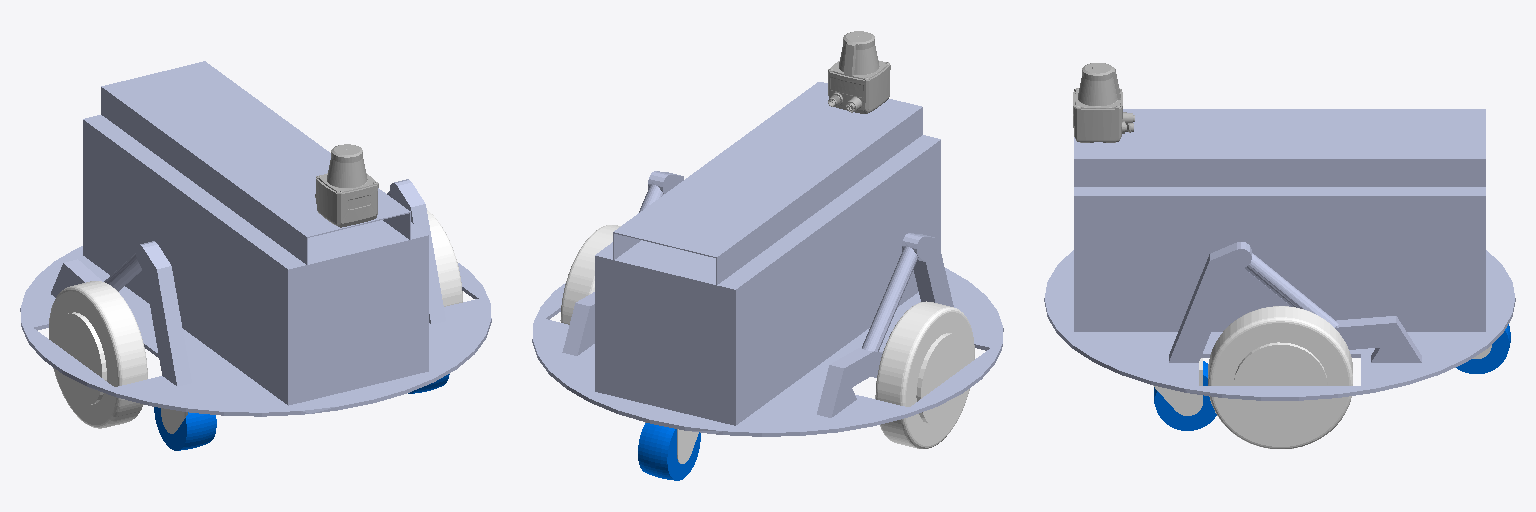
robot.urdf — Robot:
<?xml version="1.0"?>
<!-- This URDF was automatically created by SolidWorks to URDF Exporter! Originally created by [author] ([email redacted]) 
     Commit Version: 1.6.0-4-g7f85cfe  Build Version: 1.6.7995.38578
     For more information, please see http://wiki.ros.org/sw_urdf_exporter -->
<robot name="Robot">
  <link name="base_link">
    <inertial>
      <origin xyz="5.5883E-09 6.8815E-05 0.087147" rpy="0 0 0" />
      <mass value="17.671" />
      <inertia ixx="0.38706" ixy="-1.5454E-09" ixz="-4.6261E-09" iyy="0.11595" iyz="0.00072969" izz="0.39948" />
    </inertial>
    <visual>
      <origin xyz="0 0 0" rpy="0 0 0" />
      <geometry>
        <mesh filename="package://move_cpp/meshes/base_link.STL" />
      </geometry>
      <material name="">
        <color rgba="0.79216 0.81961 0.93333 1" />
      </material>
    </visual>
    <collision>
      <origin xyz="0 0 0" rpy="0 0 0" />
      <geometry>
        <mesh filename="package://move_cpp/meshes/base_link.STL" />
      </geometry>
    </collision>
  </link>
  <link name="left_driving_Link">
    <inertial>
      <origin xyz="-4.6306E-16 -2.4069E-17 0.030989" rpy="0 0 0" />
      <mass value="1.0167" />
      <inertia ixx="0.0018863" ixy="-8.4703E-22" ixz="-2.1234E-17" iyy="0.0018863" iyz="5.4336E-20" izz="0.0034125" />
    </inertial>
    <visual>
      <origin xyz="0 0 0" rpy="0 0 0" />
      <geometry>
        <mesh filename="package://move_cpp/meshes/left_driving_Link.STL" />
      </geometry>
      <material name="">
        <color rgba="1 1 1 1" />
      </material>
    </visual>
    <collision>
      <origin xyz="0 0 0" rpy="0 0 0" />
      <geometry>
        <mesh filename="package://move_cpp/meshes/left_driving_Link.STL" />
      </geometry>
    </collision>
  </link>
  <joint name="left_driving_joint" type="continuous">
    <origin xyz="0.180999999999999 0.000786833678708226 0.000722293893000475" rpy="1.5707963267949 -0.0050365594113706 1.57079632679491" />
    <parent link="base_link" />
    <child link="left_driving_Link" />
    <axis xyz="0 0 -1" />
  </joint>
  <link name="right_driving_Link">
    <inertial>
      <origin xyz="-3.0184E-16 1.2322E-15 0.030989" rpy="0 0 0" />
      <mass value="1.0167" />
      <inertia ixx="0.0018863" ixy="-5.421E-20" ixz="-2.1535E-17" iyy="0.0018863" iyz="-1.9176E-19" izz="0.0034125" />
    </inertial>
    <visual>
      <origin xyz="0 0 0" rpy="0 0 0" />
      <geometry>
        <mesh filename="package://move_cpp/meshes/right_driving_Link.STL" />
      </geometry>
      <material name="">
        <color rgba="1 1 1 1" />
      </material>
    </visual>
    <collision>
      <origin xyz="0 0 0" rpy="0 0 0" />
      <geometry>
        <mesh filename="package://move_cpp/meshes/right_driving_Link.STL" />
      </geometry>
    </collision>
  </link>
  <joint name="right_driving_joint" type="continuous">
    <origin xyz="-0.181 0.000786833678706968 0.000722293893000444" rpy="-1.5707963267948 -1.42407792492469 1.5707963267948" />
    <parent link="base_link" />
    <child link="right_driving_Link" />
    <axis xyz="0 0 -1" />
  </joint>
  <link name="left_front_Link">
    <inertial>
      <origin xyz="1.43782208361642E-12 0.0168544398985724 0.0240047071523703" rpy="0 0 0" />
      <mass value="0.00854174955709271" />
      <inertia ixx="5.38481577543375E-06" ixy="-4.82202558289165E-16" ixz="-3.13676314830369E-16" iyy="5.74785615120538E-06" iyz="-8.16029471723176E-07" izz="5.61072560754907E-06" />
    </inertial>
    <visual>
      <origin xyz="0 0 0" rpy="0 0 0" />
      <geometry>
        <mesh filename="package://move_cpp/meshes/left_front_Link.STL" />
      </geometry>
      <material name="">
        <color rgba="1 1 1 1" />
      </material>
    </visual>
    <collision>
      <origin xyz="0 0 0" rpy="0 0 0" />
      <geometry>
        <mesh filename="package://move_cpp/meshes/left_front_Link.STL" />
      </geometry>
    </collision>
  </link>
  <joint name="left_front_joint" type="continuous">
    <origin xyz="0.157292912235723 -0.1427665926638 -0.00399999999999999" rpy="-1.5707963267949 0 0.00497127419552703" />
    <parent link="base_link" />
    <child link="left_front_Link" />
    <axis xyz="0 1 0" />
  </joint>
  <link name="passive_wheel_0_Link">
    <inertial>
      <origin xyz="0 0 5.0503E-11" rpy="0 0 0" />
      <mass value="0.19552" />
      <inertia ixx="0.00010159" ixy="1.0164E-20" ixz="4.619E-20" iyy="0.00010159" iyz="-9.5556E-21" izz="0.00015221" />
    </inertial>
    <visual>
      <origin xyz="0 0 0" rpy="0 0 0" />
      <geometry>
        <mesh filename="package://move_cpp/meshes/passive_wheel_0_Link.STL" />
      </geometry>
      <material name="">
        <color rgba="0 0.50196 1 1" />
      </material>
    </visual>
    <collision>
      <origin xyz="0 0 0" rpy="0 0 0" />
      <geometry>
        <mesh filename="package://move_cpp/meshes/passive_wheel_0_Link.STL" />
      </geometry>
    </collision>
  </link>
  <joint name="passive_wheel_0_joint" type="continuous">
    <origin xyz="0 0.042 0.035" rpy="-1.5707963267949 -0.350799729304603 1.5707963267949" />
    <parent link="left_front_Link" />
    <child link="passive_wheel_0_Link" />
    <axis xyz="0 0 1" />
  </joint>
  <link name="right_front_Link">
    <inertial>
      <origin xyz="-0.00094193 0.016854 0.023986" rpy="0 0 0" />
      <mass value="0.0085417" />
      <inertia ixx="5.3852E-06" ixy="3.202E-08" ixz="-8.8577E-09" iyy="5.7479E-06" iyz="-8.154E-07" izz="5.6104E-06" />
    </inertial>
    <visual>
      <origin xyz="0 0 0" rpy="0 0 0" />
      <geometry>
        <mesh filename="package://move_cpp/meshes/right_front_Link.STL" />
      </geometry>
      <material name="">
        <color rgba="1 1 1 1" />
      </material>
    </visual>
    <collision>
      <origin xyz="0 0 0" rpy="0 0 0" />
      <geometry>
        <mesh filename="package://move_cpp/meshes/right_front_Link.STL" />
      </geometry>
    </collision>
  </link>
  <joint name="right_front_joint" type="continuous">
    <origin xyz="-0.157292912235724 -0.142766592663801 -0.00399999999999995" rpy="-1.5707963267949 0 -0.039249442706015" />
    <parent link="base_link" />
    <child link="right_front_Link" />
    <axis xyz="0 1 0" />
  </joint>
  <link name="passive_wheel_1_Link">
    <inertial>
      <origin xyz="-8.8962E-06 2.5445E-05 0.0013734" rpy="0 0 0" />
      <mass value="0.19552" />
      <inertia ixx="0.00010159" ixy="-2.4283E-08" ixz="-6.5506E-07" iyy="0.00010165" iyz="1.8737E-06" izz="0.00015213" />
    </inertial>
    <visual>
      <origin xyz="0 0 0" rpy="0 0 0" />
      <geometry>
        <mesh filename="package://move_cpp/meshes/passive_wheel_1_Link.STL" />
      </geometry>
      <material name="">
        <color rgba="0 0.50196 1 1" />
      </material>
    </visual>
    <collision>
      <origin xyz="0 0 0" rpy="0 0 0" />
      <geometry>
        <mesh filename="package://move_cpp/meshes/passive_wheel_1_Link.STL" />
      </geometry>
    </collision>
  </link>
  <joint name="passive_wheel_1_joint" type="continuous">
    <origin xyz="0 0.0420000000000001 0.0350000000000015" rpy="-1.5707963267949 -0.336335018897663 1.5707963267949" />
    <parent link="right_front_Link" />
    <child link="passive_wheel_1_Link" />
    <axis xyz="-0.0129501555096522 0.0370408061670267 0.99922983950179" />
  </joint>
  <link name="rear_Link">
    <inertial>
      <origin xyz="-2.6878E-12 0.016854 0.024005" rpy="0 0 0" />
      <mass value="0.0085417" />
      <inertia ixx="5.3848E-06" ixy="9.0082E-16" ixz="5.8573E-16" iyy="5.7479E-06" iyz="-8.1603E-07" izz="5.6107E-06" />
    </inertial>
    <visual>
      <origin xyz="0 0 0" rpy="0 0 0" />
      <geometry>
        <mesh filename="package://move_cpp/meshes/rear_Link.STL" />
      </geometry>
      <material name="">
        <color rgba="1 1 1 1" />
      </material>
    </visual>
    <collision>
      <origin xyz="0 0 0" rpy="0 0 0" />
      <geometry>
        <mesh filename="package://move_cpp/meshes/rear_Link.STL" />
      </geometry>
    </collision>
  </link>
  <joint name="rear_joint" type="continuous">
    <origin xyz="0 0.194549146172814 -0.00400000000000001" rpy="-1.5707963267949 0 -0.00934723036427986" />
    <parent link="base_link" />
    <child link="rear_Link" />
    <axis xyz="0 1 0" />
  </joint>
  <link name="passive_wheel_2_Link">
    <inertial>
      <origin xyz="0 -2.7756E-17 5.0503E-11" rpy="0 0 0" />
      <mass value="0.19552" />
      <inertia ixx="0.00010159" ixy="6.7763E-21" ixz="3.7058E-22" iyy="0.00010159" iyz="5.8234E-21" izz="0.00015221" />
    </inertial>
    <visual>
      <origin xyz="0 0 0" rpy="0 0 0" />
      <geometry>
        <mesh filename="package://move_cpp/meshes/passive_wheel_2_Link.STL" />
      </geometry>
      <material name="">
        <color rgba="0 0.50196 1 1" />
      </material>
    </visual>
    <collision>
      <origin xyz="0 0 0" rpy="0 0 0" />
      <geometry>
        <mesh filename="package://move_cpp/meshes/passive_wheel_2_Link.STL" />
      </geometry>
    </collision>
  </link>
  <joint name="passive_wheel_2_joint" type="continuous">
    <origin xyz="0 0.042 0.0350000000000001" rpy="-1.5707963267949 -0.365904543439191 1.5707963267949" />
    <parent link="rear_Link" />
    <child link="passive_wheel_2_Link" />
    <axis xyz="0 0 1" />
  </joint>
  <link name="radar_Link">
    <inertial>
      <origin xyz="0.0010107 0.029078 -0.0043599" rpy="0 0 0" />
      <mass value="0.043629" />
      <inertia ixx="2.5312E-05" ixy="-2.2318E-08" ixz="-1.686E-07" iyy="3.4148E-05" iyz="-9.8215E-08" izz="2.4708E-05" />
    </inertial>
    <visual>
      <origin xyz="0 0 0" rpy="0 0 0" />
      <geometry>
        <mesh filename="package://move_cpp/meshes/radar_Link.STL" />
      </geometry>
      <material name="">
        <color rgba="0.75294 0.75294 0.75294 1" />
      </material>
    </visual>
    <collision>
      <origin xyz="0 0 0" rpy="0 0 0" />
      <geometry>
        <mesh filename="package://move_cpp/meshes/radar_Link.STL" />
      </geometry>
    </collision>
  </link>
  <joint name="radar_joint" type="fixed">
    <origin xyz="-0.00138069394181945 -0.214696546199359 0.2159" rpy="1.5707963267949 0 0" />
    <parent link="base_link" />
    <child link="radar_Link" />
    <axis xyz="0 0 0" />
  </joint>
</robot>

--- What the picture shows (computed from the rendered views, not written in the file) ---
Views: 3 orthographic renders of the robot side by side, from view 1: azimuth 30°, elevation 25°; view 2: azimuth 150°, elevation 25°; view 3: azimuth 270°, elevation 25°.
Model Robot with 10 links and 9 joints (8 continuous, 1 fixed), rooted at base_link, posed all joints at 0.
Visible links, largest first — view 1: base_link, right_driving_Link, radar_Link, left_driving_Link, passive_wheel_1_Link; view 2: base_link, right_driving_Link, radar_Link, passive_wheel_2_Link, left_driving_Link, rear_Link; view 3: base_link, left_driving_Link, radar_Link, passive_wheel_0_Link, passive_wheel_2_Link, left_front_Link.
Link boxes in pixels (box(x1,y1,x2,y2)): base_link: box(20, 61, 491, 416); right_driving_Link: box(49, 281, 147, 428); radar_Link: box(315, 144, 378, 227); left_driving_Link: box(427, 210, 462, 306); passive_wheel_1_Link: box(154, 407, 216, 450); base_link: box(532, 82, 1003, 436); right_driving_Link: box(875, 301, 974, 448); radar_Link: box(828, 31, 890, 113); passive_wheel_2_Link: box(638, 423, 700, 480); left_driving_Link: box(560, 225, 620, 324); rear_Link: box(645, 422, 698, 463); base_link: box(1044, 109, 1515, 400); left_driving_Link: box(1208, 306, 1352, 448); radar_Link: box(1073, 63, 1134, 142); passive_wheel_0_Link: box(1154, 361, 1216, 430); passive_wheel_2_Link: box(1456, 324, 1510, 373); left_front_Link: box(1153, 358, 1202, 415).
Bounding box of the posed robot: 0.5481 × 0.55 × 0.3868 m (x, y, z).
10 mesh visuals loaded from 10 distinct referenced files (10 binary STL).